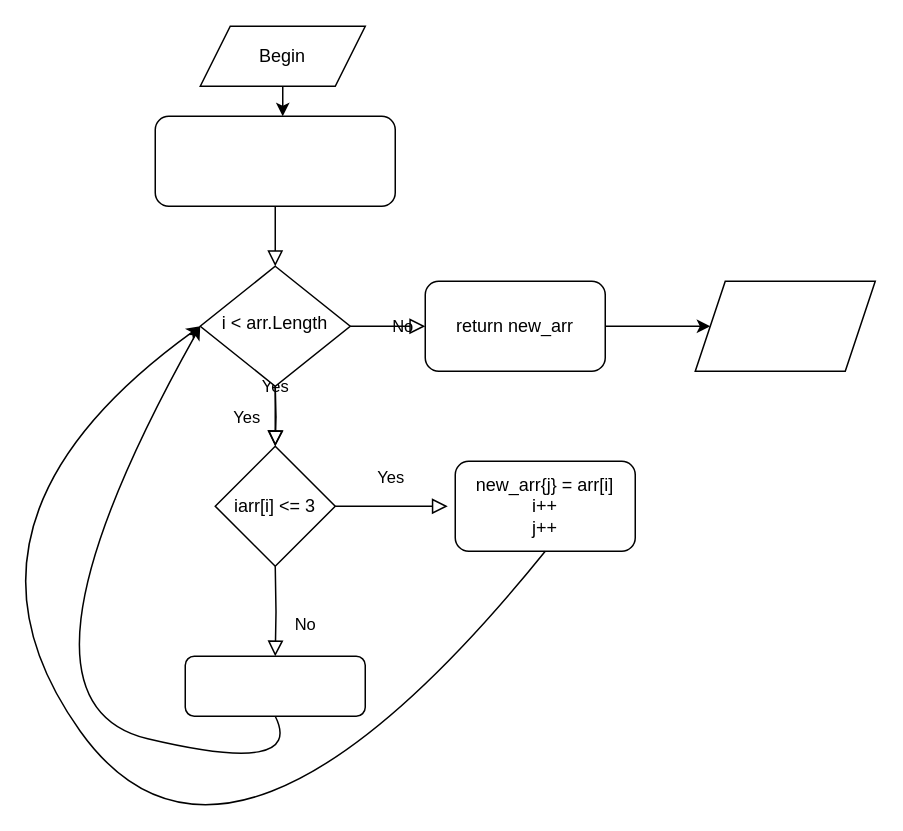
This 903x831 diagram has some shape labels left out. Each missing label, with the centre of its shape:
"Finish" goes at [784,325].
"i++" goes at [274,685].
"string arr[] string new_arr[] i = 0 j = 0" goes at [274,160].
